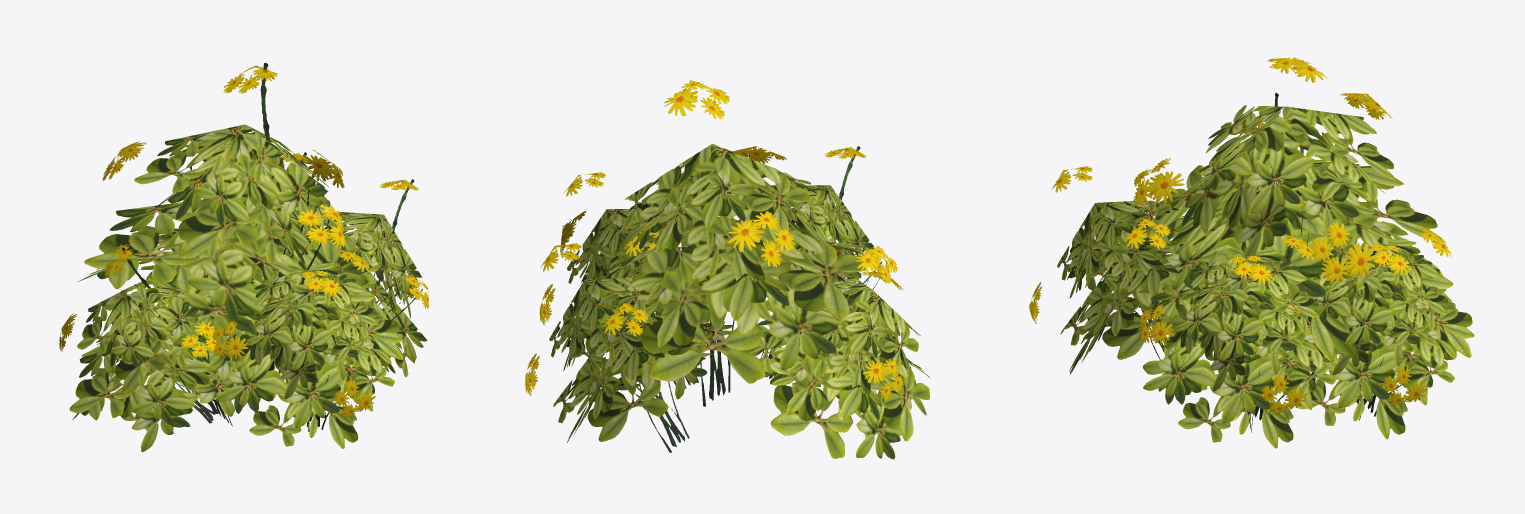
File: eve_LOD0.fbx
3 views of the same model, side by side, from view 1: azimuth 30°, elevation 25°; view 2: azimuth 150°, elevation 25°; view 3: azimuth 270°, elevation 25° (orthographic). The views are drawn at different scales.
Visible parts, largest first — view 1: Mesh Object; view 2: Mesh Object; view 3: Mesh Object.
Boxes of the visible parts, bbox=[...] form: Mesh Object: bbox=[59, 63, 428, 451]; Mesh Object: bbox=[525, 80, 929, 459]; Mesh Object: bbox=[1028, 57, 1474, 448].
Size of the model in its own units: 2.01 by 2.1 by 2.11.
